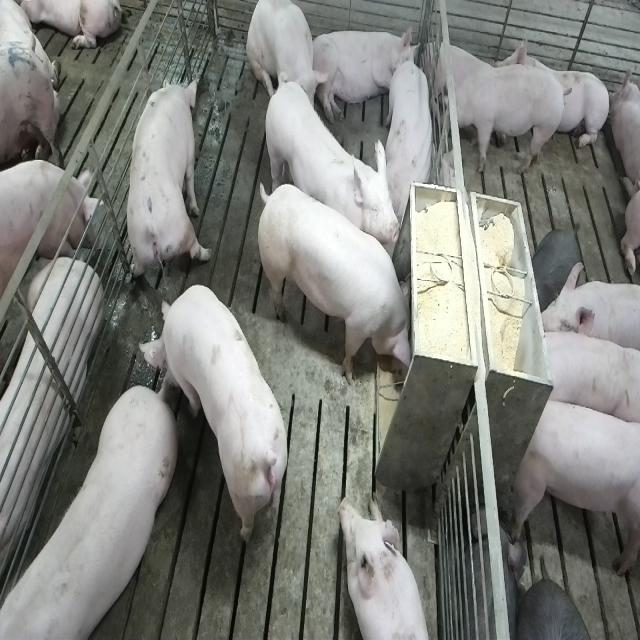Feeding: (259, 178, 421, 396)
Lateral_lying: (0, 193, 101, 590), (310, 21, 417, 126)
Sitting: (246, 1, 329, 130)
Standing: (0, 383, 174, 640), (144, 286, 293, 550), (260, 78, 399, 260), (508, 390, 639, 580), (124, 74, 209, 294), (0, 161, 98, 316), (443, 64, 568, 176), (534, 326, 637, 432), (536, 262, 640, 359)
Sternal_lying: (494, 29, 609, 154), (337, 494, 434, 640), (426, 35, 494, 114)
